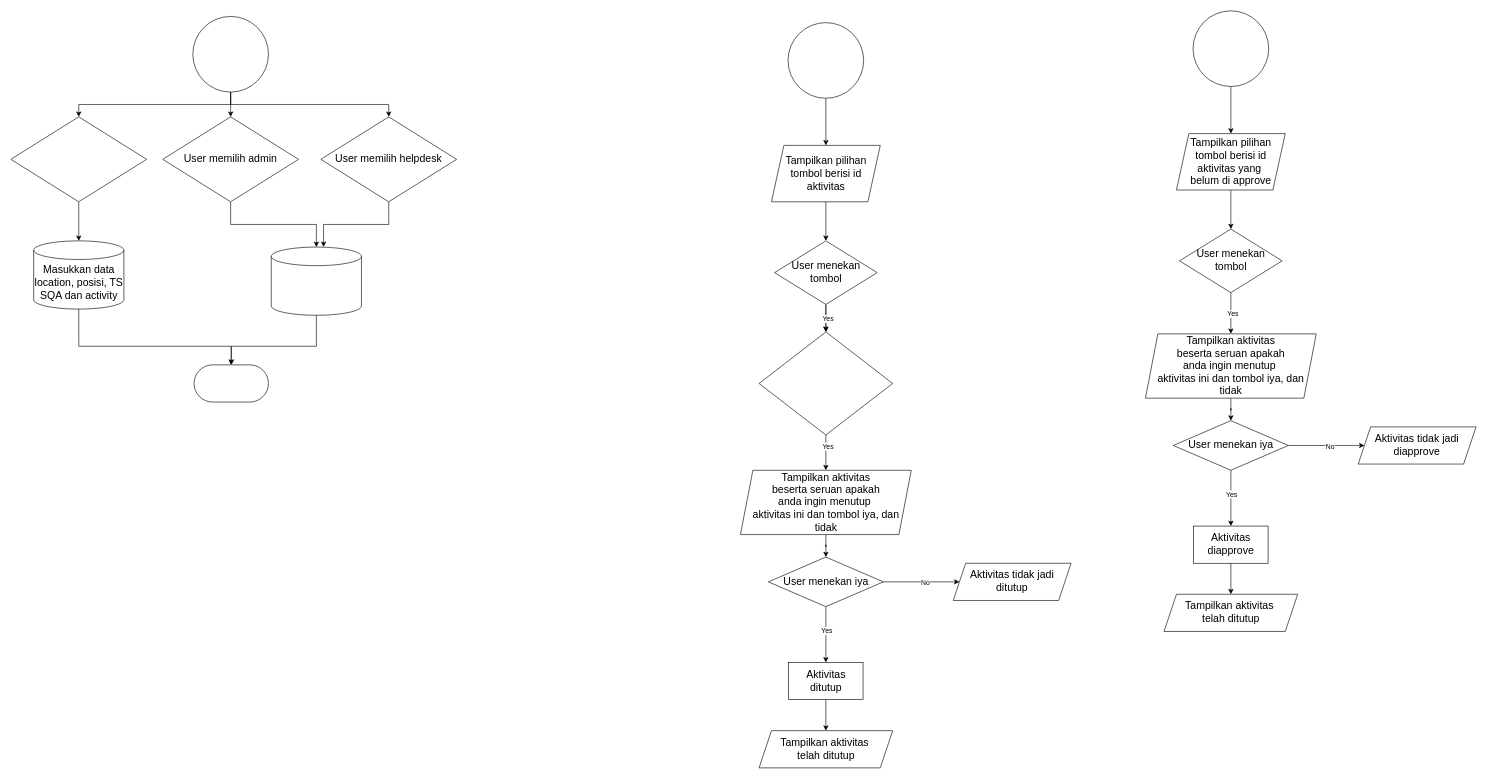
Image size: 1487x779. Some labels were removed from this diagram. The centre of each missing label's shape, as x and y in pixels:
Aktivitas dengan id yang didapat dari tombol done = 'no': (x=825, y=383)
Approve request ke TS SQA: (x=1230, y=48)
Buka / Tutup aktivitas: (x=825, y=60)
Finish: (x=230, y=383)
input data log activity request: (x=230, y=54)
Masukkan data posisi (Admin/Helpdesk) dan activity: (x=316, y=280)
User memilih TS SQA: (x=78, y=159)
